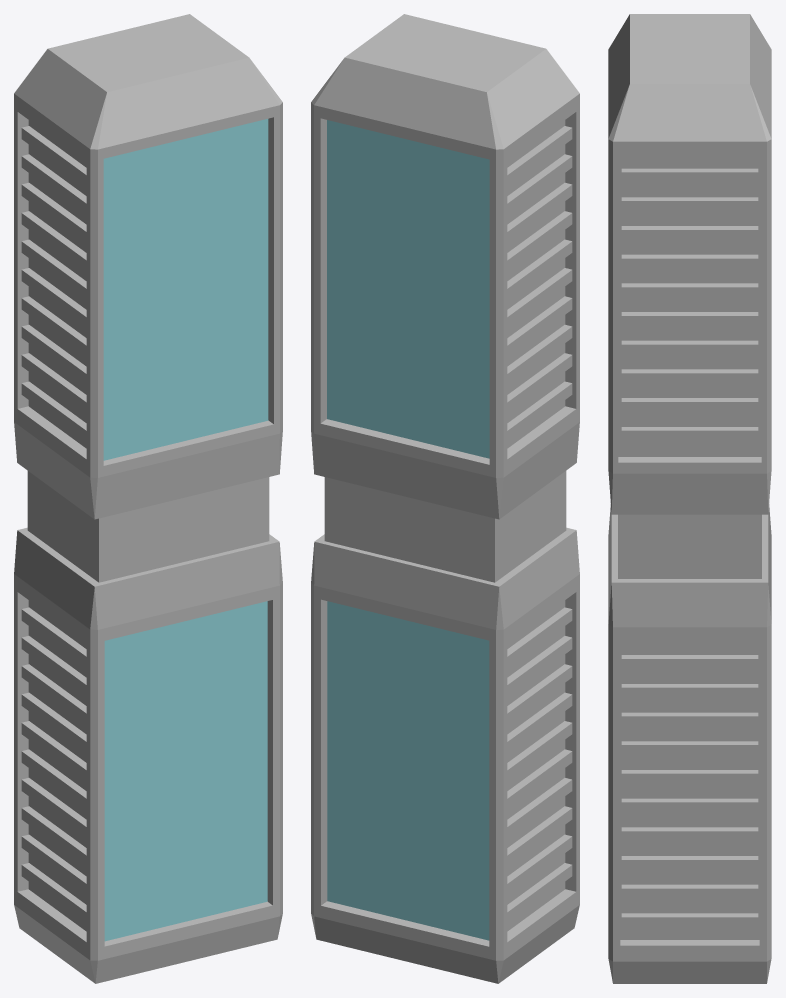
The model's file is Buillding4.fbx.
The picture shows the model from 3 angles, left to right: view 1: azimuth 30°, elevation 25°; view 2: azimuth 150°, elevation 25°; view 3: azimuth 270°, elevation 25°; orthographic projection.
Visible parts, largest first — view 1: Cube; view 2: Cube; view 3: Cube.
Boxes of the visible parts, left/top/right/bottom form: Cube: left=14, top=14, right=282, bottom=983; Cube: left=311, top=14, right=579, bottom=983; Cube: left=608, top=14, right=771, bottom=983.
Size of the model in its own units: 2266 by 9896 by 1643.
